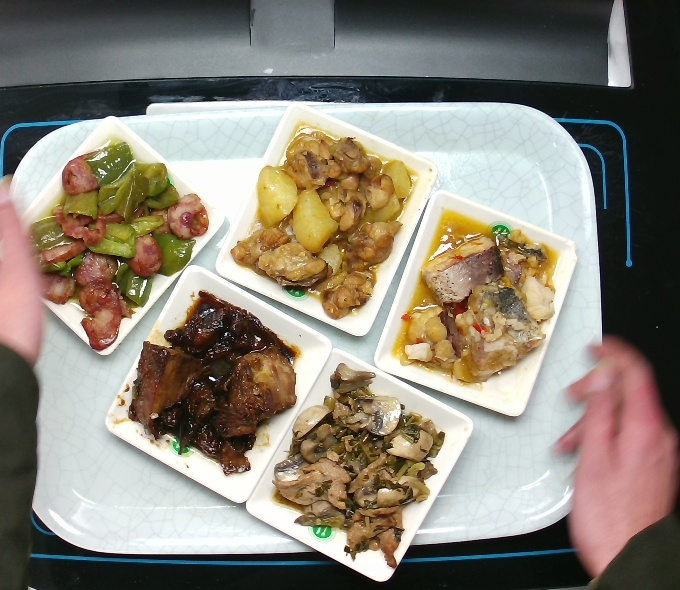wcq-JiangZhiYa: (126, 289, 299, 474)
wcq-MoGuRouPian: (271, 359, 446, 572)
wcq-SuanCaiYu: (393, 209, 559, 387)
wcq-TuDouJiKuai: (229, 125, 419, 319)
